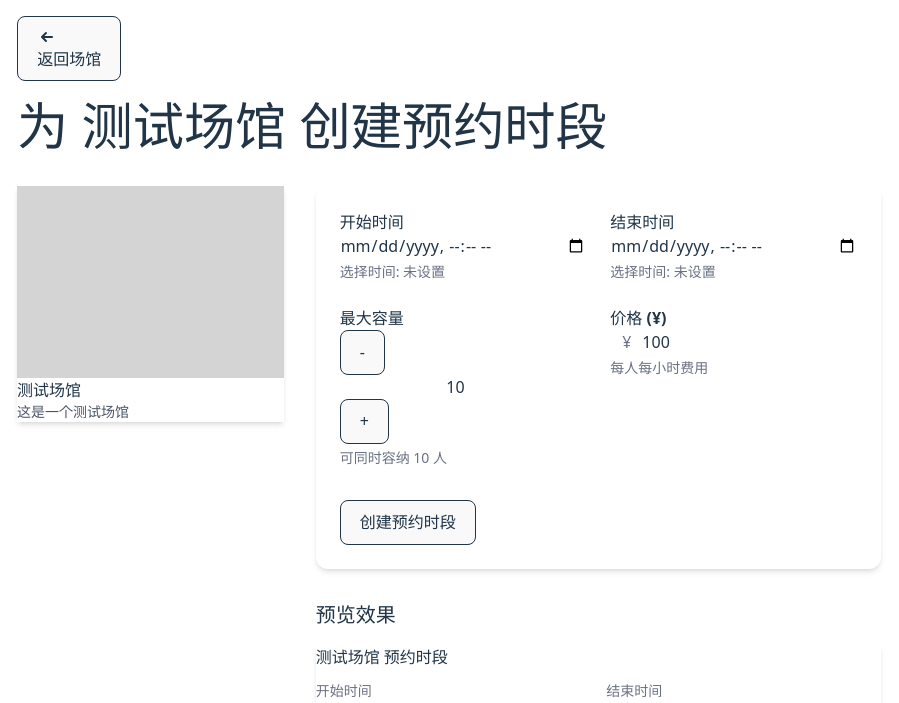
Test case: ScheduleCreate › 表单输入和验证
The image size is (899, 703).
Check: the button "创建预约时段" is shown, box [340, 500, 476, 545]
Type "2023-10-01T12:00" into the field labelled "开始时间" at (463, 246), box [340, 234, 586, 258]
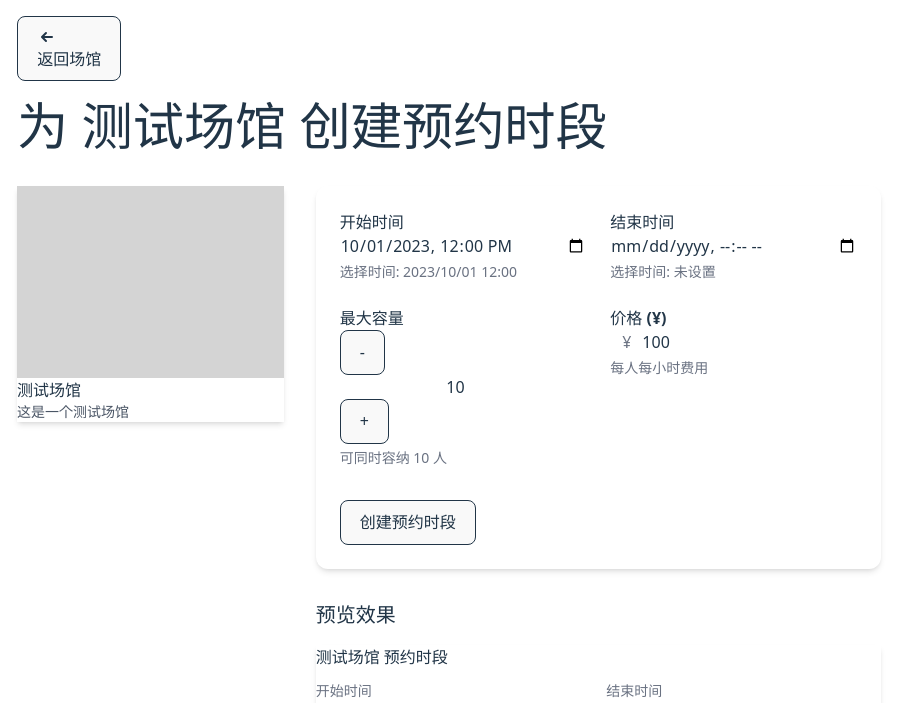
Type "2023-10-01T10:00" into the field labelled "结束时间" at (734, 246), box [610, 234, 857, 258]
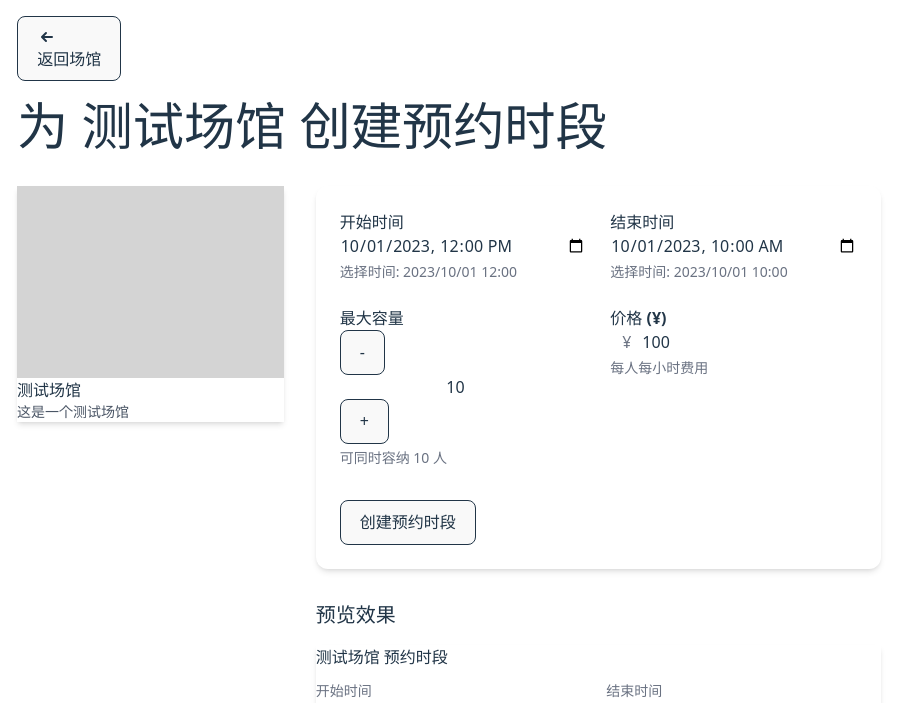
Click the button "创建预约时段" at (408, 522), box [340, 500, 476, 545]
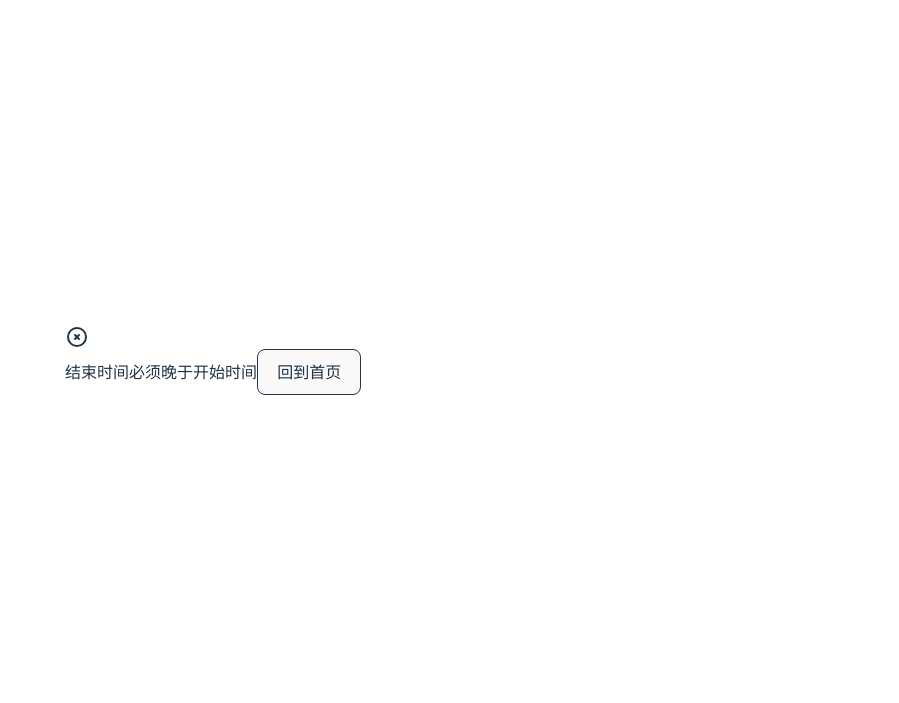
Check: the text "结束时间必须晚于开始时间" is shown, box [65, 361, 257, 383]
